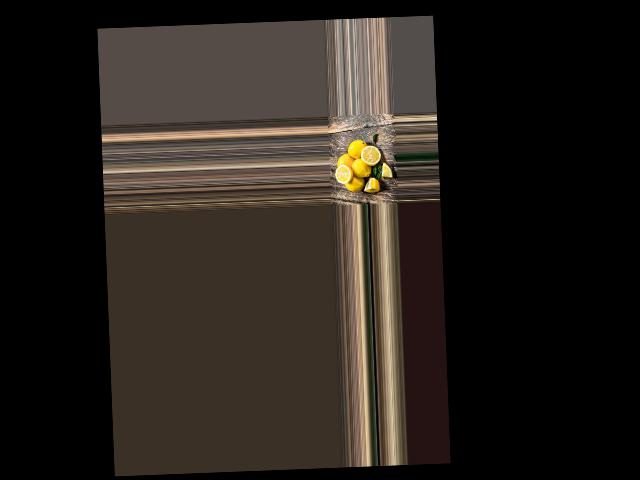lemon: (346, 174, 366, 192)
